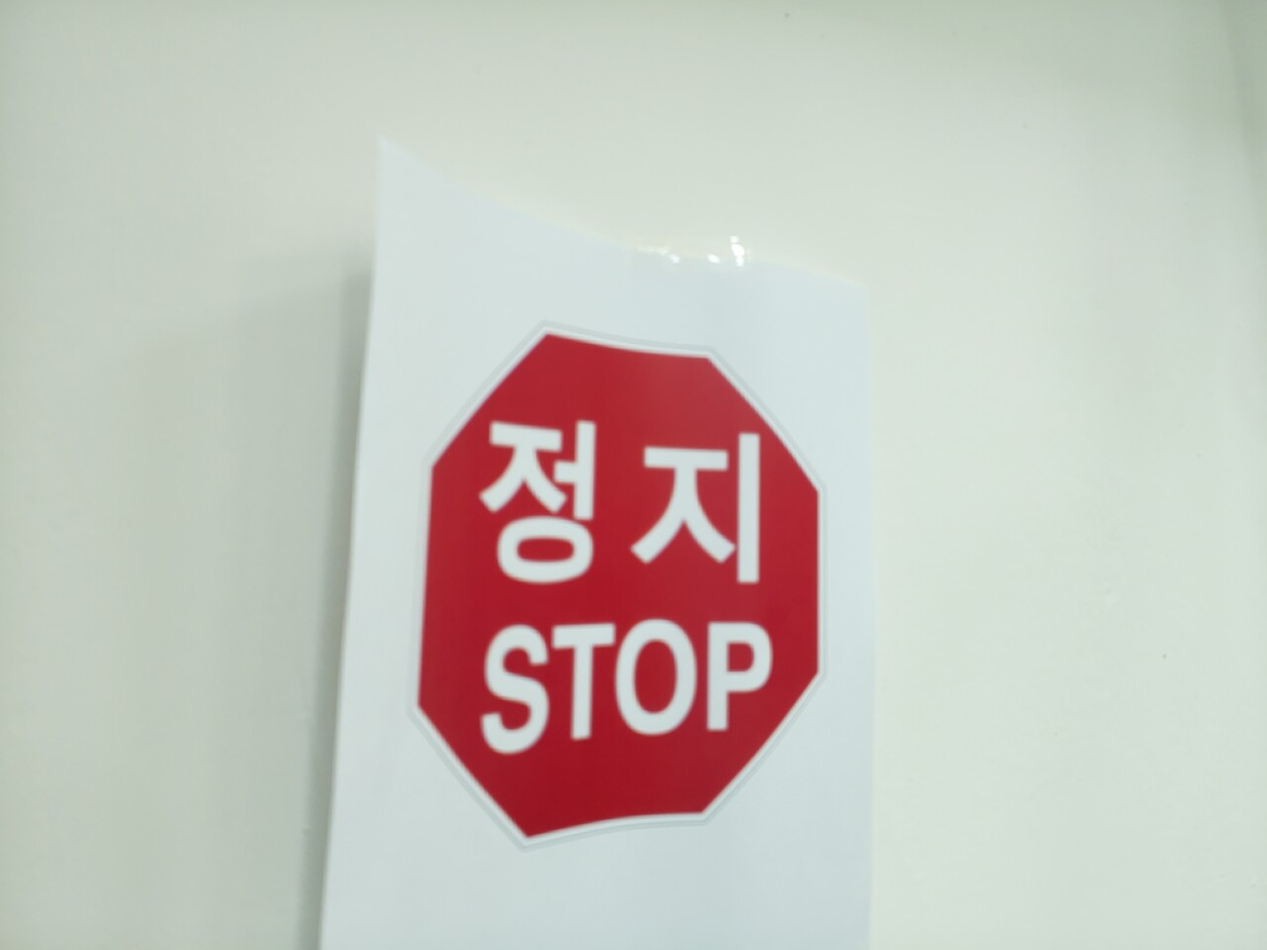stop: (406, 320, 830, 851)
